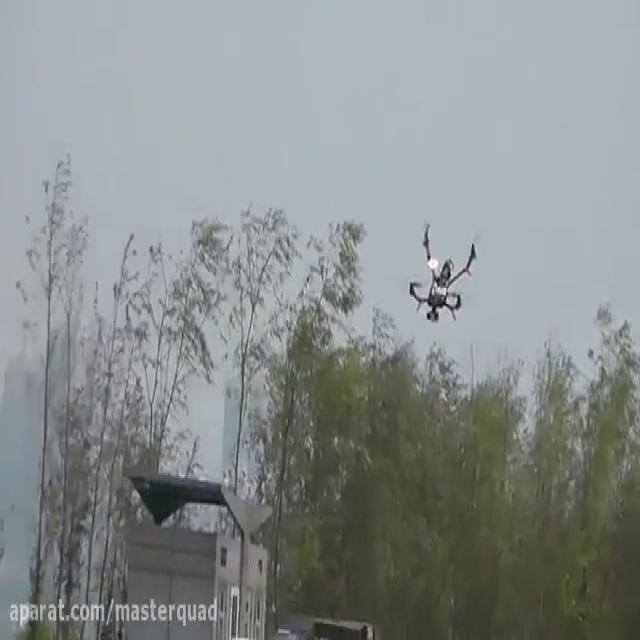drone: (401, 215, 487, 324)
